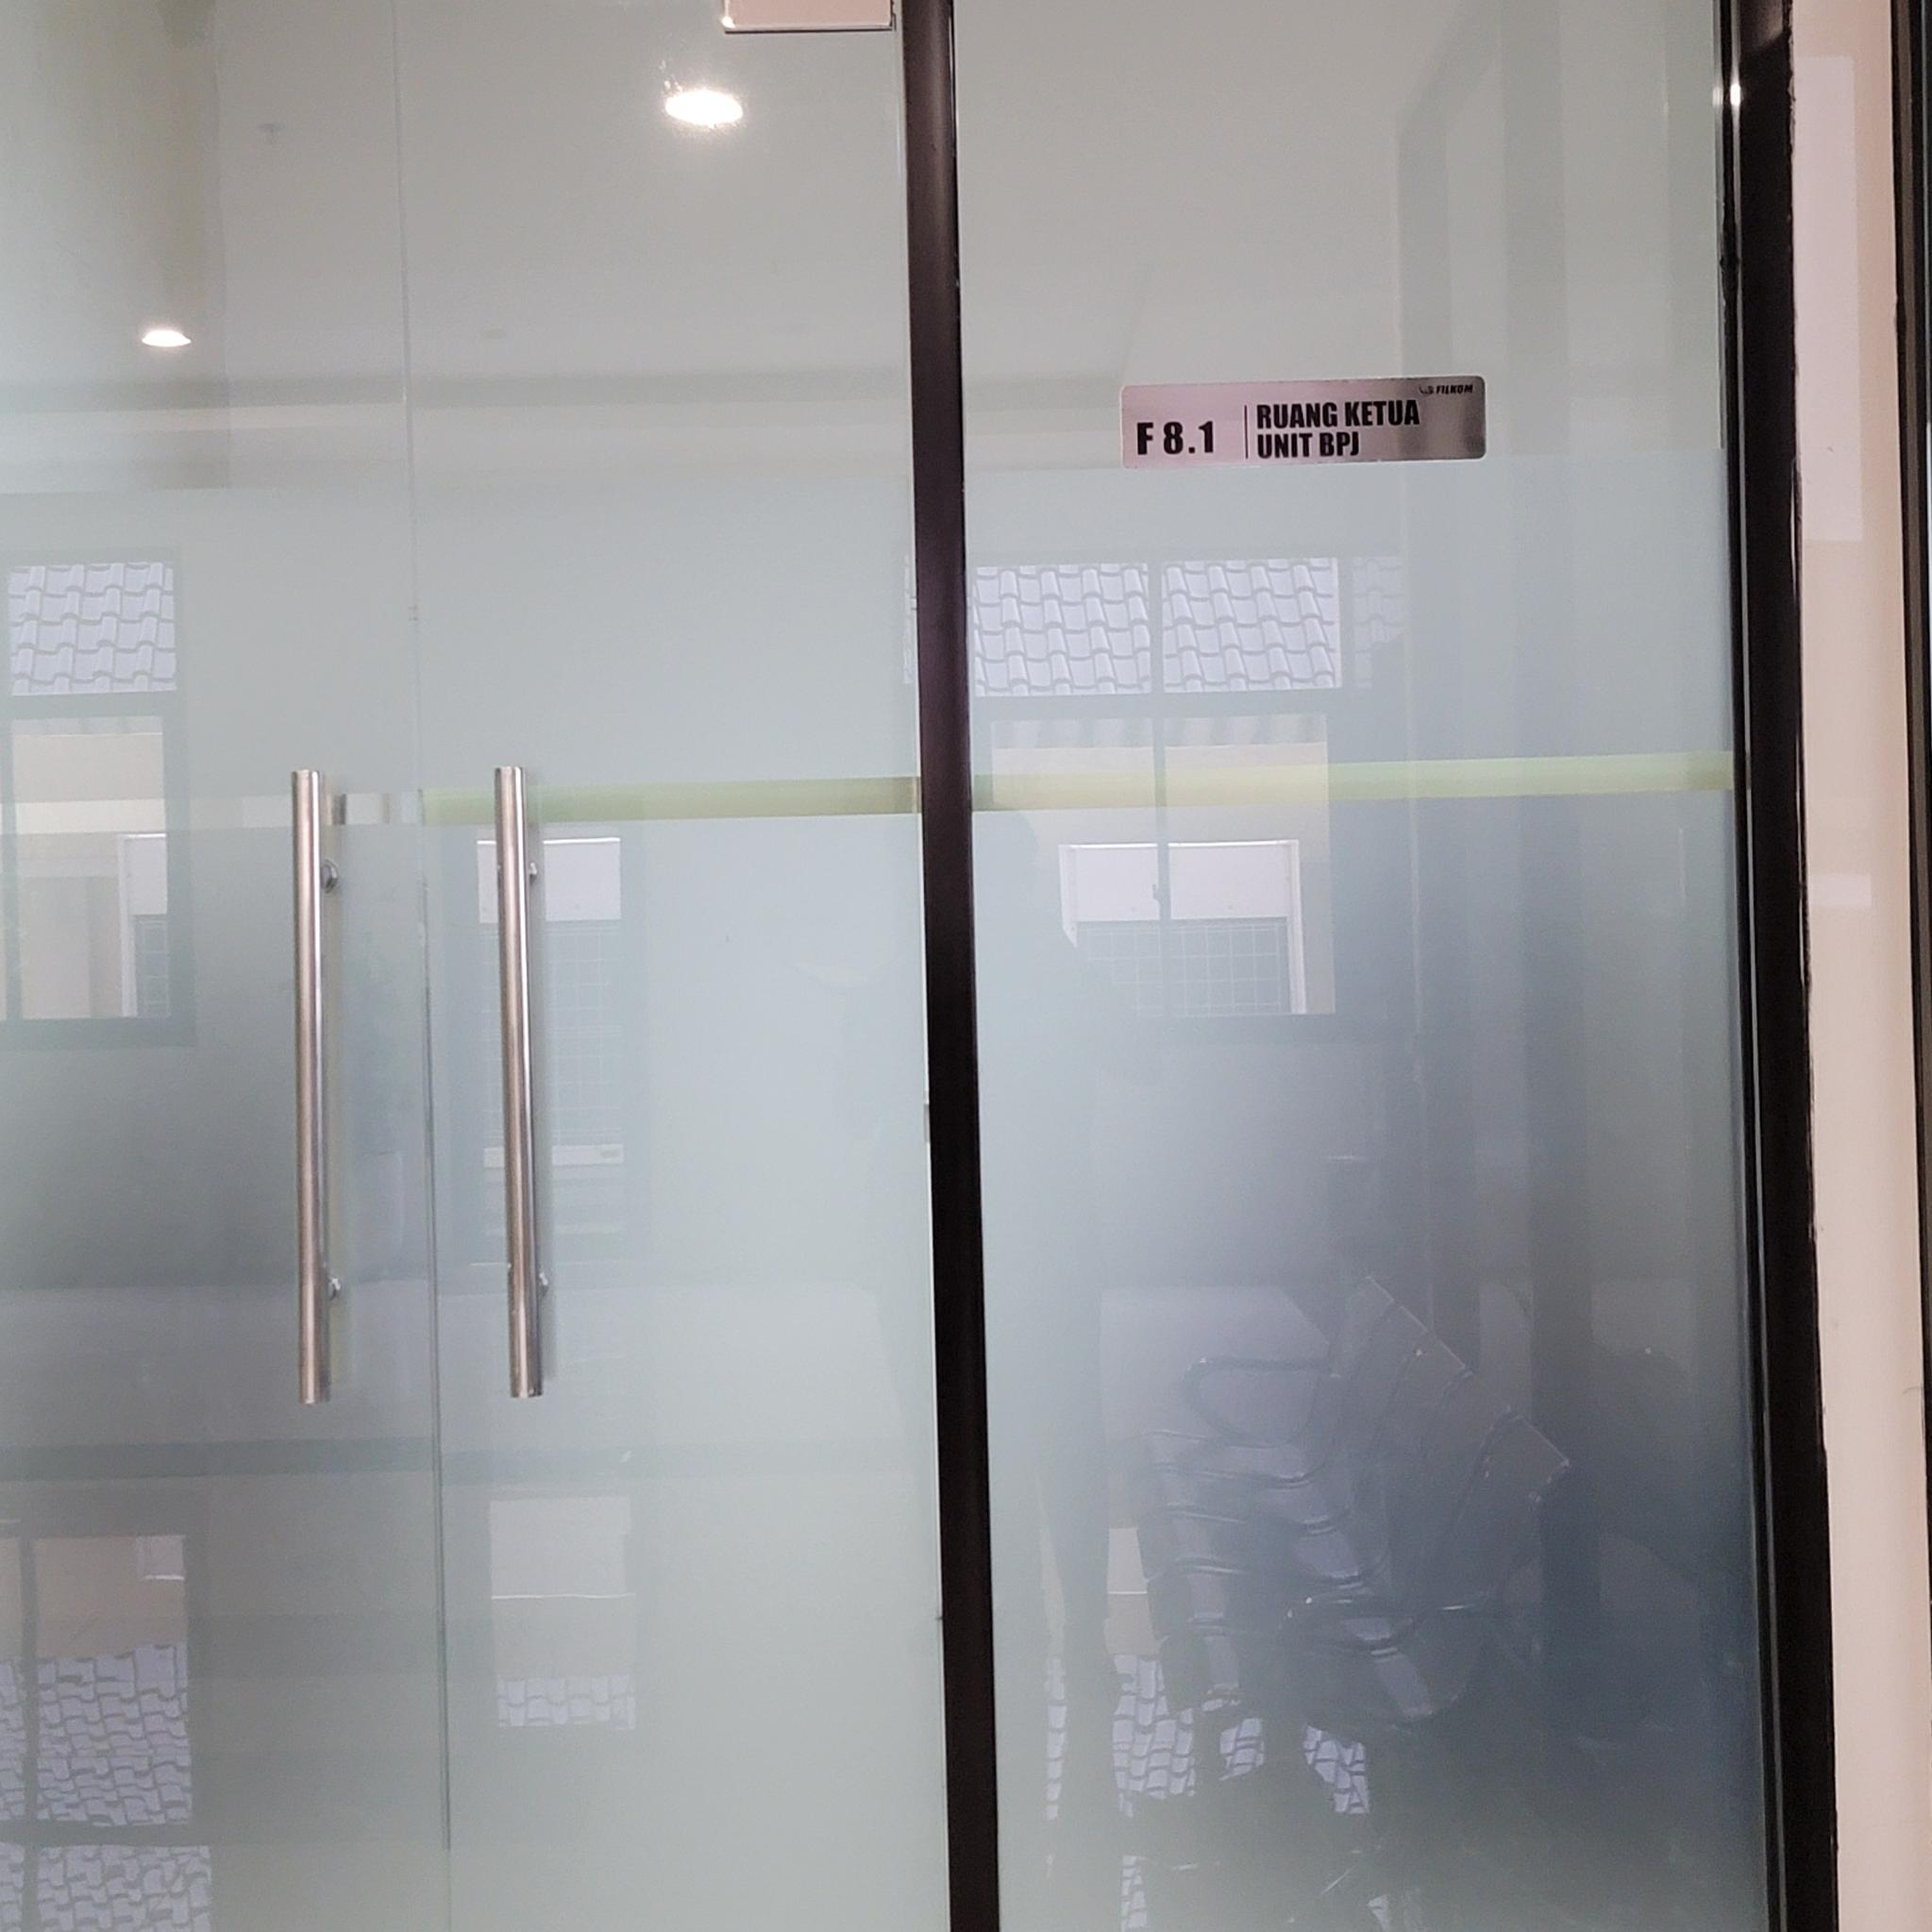plate: (1120, 375, 1491, 476)
